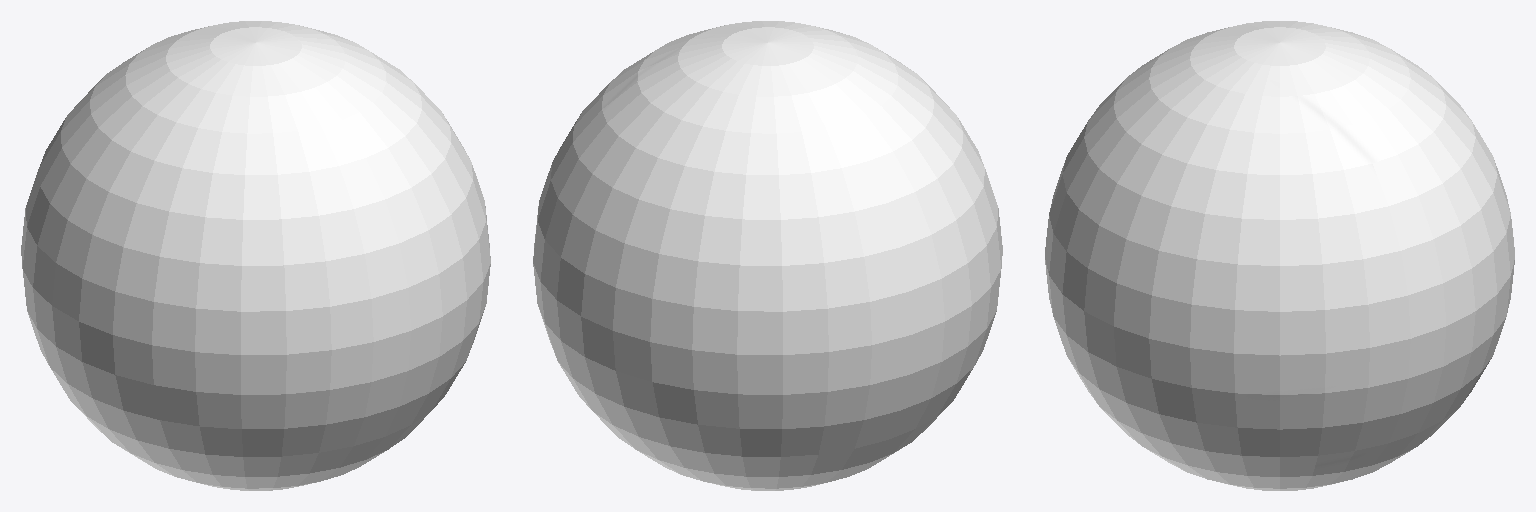
3 renders of one model, left to right at view 1: azimuth 30°, elevation 25°; view 2: azimuth 150°, elevation 25°; view 3: azimuth 270°, elevation 25°, orthographic.
Visible parts, largest first — view 1: 球; view 2: 球; view 3: 球.
Boxes of the visible parts, <box> form: 球: <box>21,21,490,490</box>; 球: <box>533,21,1002,490</box>; 球: <box>1045,21,1514,490</box>.
Size of the model in its own units: 2 by 2 by 2.
1 materials, 1 textured.